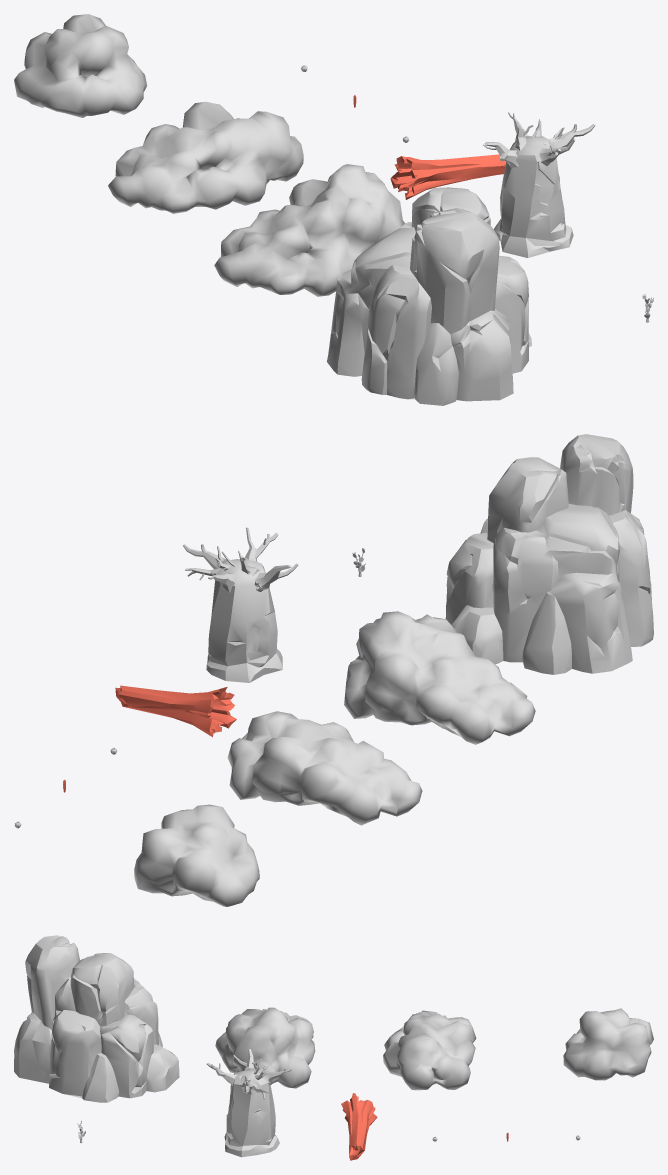
The model's file is plants3.fbx.
3 renders of one model, top to bottom at view 1: azimuth 30°, elevation 25°; view 2: azimuth 150°, elevation 25°; view 3: azimuth 270°, elevation 25°, orthographic. The views are drawn at different scales.
Visible parts, largest first — view 1: rock-sandstone-large-g, cloud-c, cloud-b, cloud-a, tree-baobab-african-thick-generic-dead-a, tree-sequoia-giant-part-rotten-big-b; view 2: rock-sandstone-large-g, cloud-c, cloud-b, cloud-a, tree-baobab-african-thick-generic-dead-a, tree-sequoia-giant-part-rotten-big-b; view 3: rock-sandstone-large-g, cloud-b, cloud-c, cloud-a, tree-baobab-african-thick-generic-dead-a, tree-sequoia-giant-part-rotten-big-b.
Boxes of the visible parts, left/top/right/bottom form: rock-sandstone-large-g: left=327, top=187, right=531, bottom=405; cloud-c: left=214, top=164, right=405, bottom=296; cloud-b: left=108, top=101, right=303, bottom=213; cloud-a: left=14, top=14, right=146, bottom=117; tree-baobab-african-thick-generic-dead-a: left=483, top=112, right=595, bottom=257; tree-sequoia-giant-part-rotten-big-b: left=390, top=154, right=506, bottom=199; rock-sandstone-large-g: left=445, top=434, right=653, bottom=674; cloud-c: left=344, top=611, right=535, bottom=744; cloud-b: left=227, top=711, right=422, bottom=825; cloud-a: left=134, top=804, right=259, bottom=906; tree-baobab-african-thick-generic-dead-a: left=183, top=527, right=298, bottom=682; tree-sequoia-giant-part-rotten-big-b: left=115, top=685, right=236, bottom=737; rock-sandstone-large-g: left=14, top=935, right=179, bottom=1102; cloud-b: left=383, top=1010, right=476, bottom=1090; cloud-c: left=215, top=1007, right=315, bottom=1088; cloud-a: left=563, top=1008, right=653, bottom=1080; tree-baobab-african-thick-generic-dead-a: left=206, top=1049, right=291, bottom=1157; tree-sequoia-giant-part-rotten-big-b: left=341, top=1093, right=377, bottom=1160.
Bounding box in the file's own units: 26.68 × 12.35 × 56.27.
